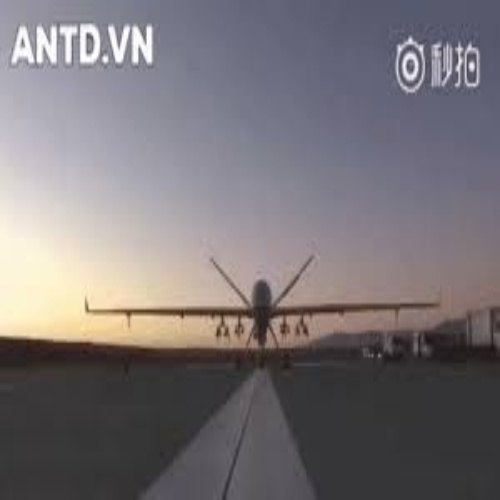uav: (83, 251, 442, 368)
